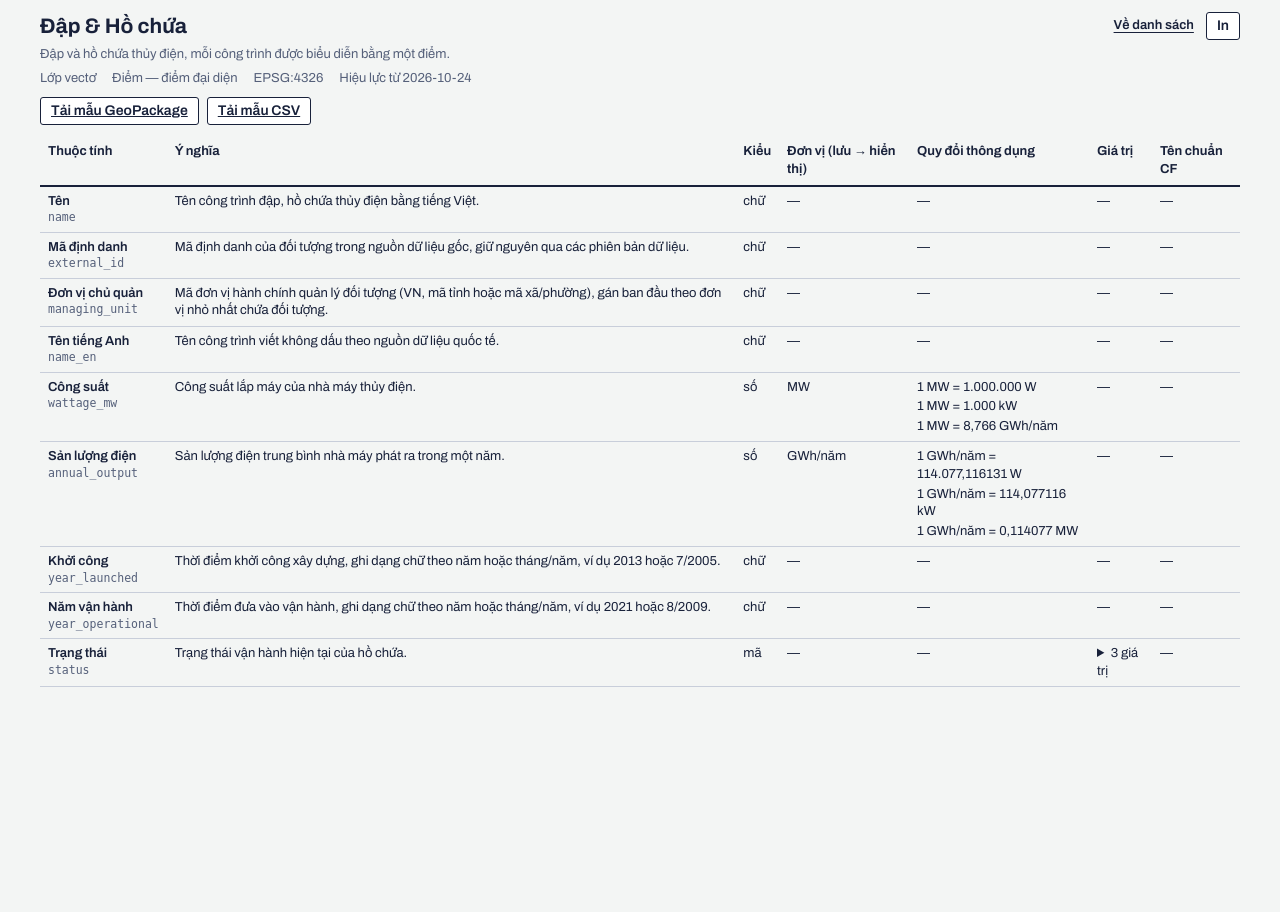
Scenario: the layer page › code values expand and mark retired ones
Click the heading "3 giá trị": [1120, 663] box x1=1097 y1=645 x2=1144 y2=680
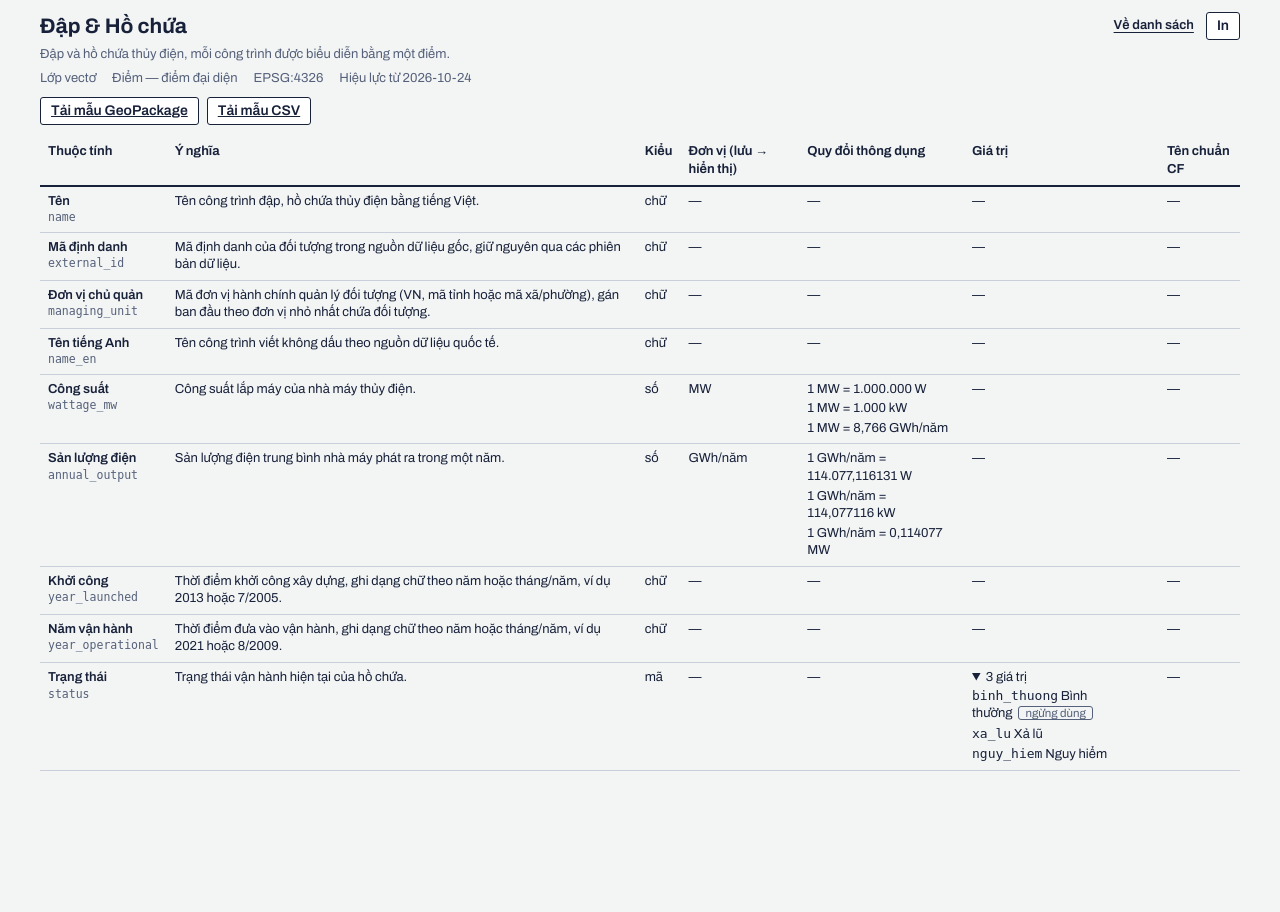
Expected: the text "binh_thuong" is shown, x1=972 y1=688 x2=1058 y2=702
Expected: the list item "Xả lũ" is shown, x1=1014 y1=727 x2=1043 y2=741
Expected: the text "ngừng dùng" is shown once, x1=1018 y1=706 x2=1093 y2=720
